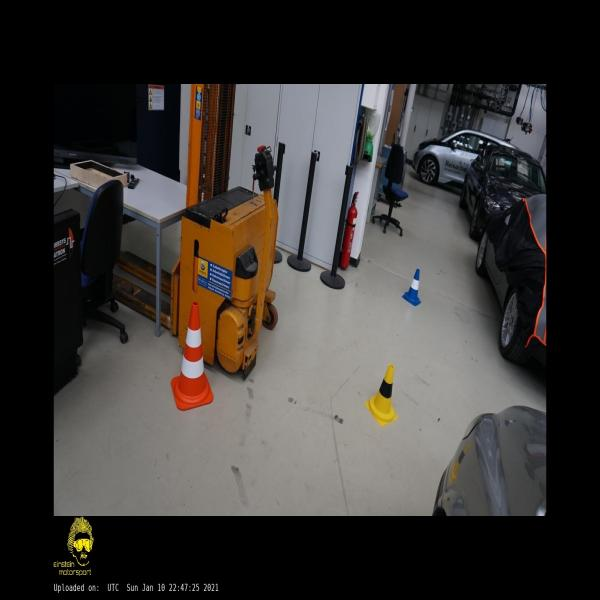blue_cone: (402, 269, 421, 306)
large_orange_cone: (171, 302, 213, 410)
yellow_cone: (364, 364, 398, 426)
